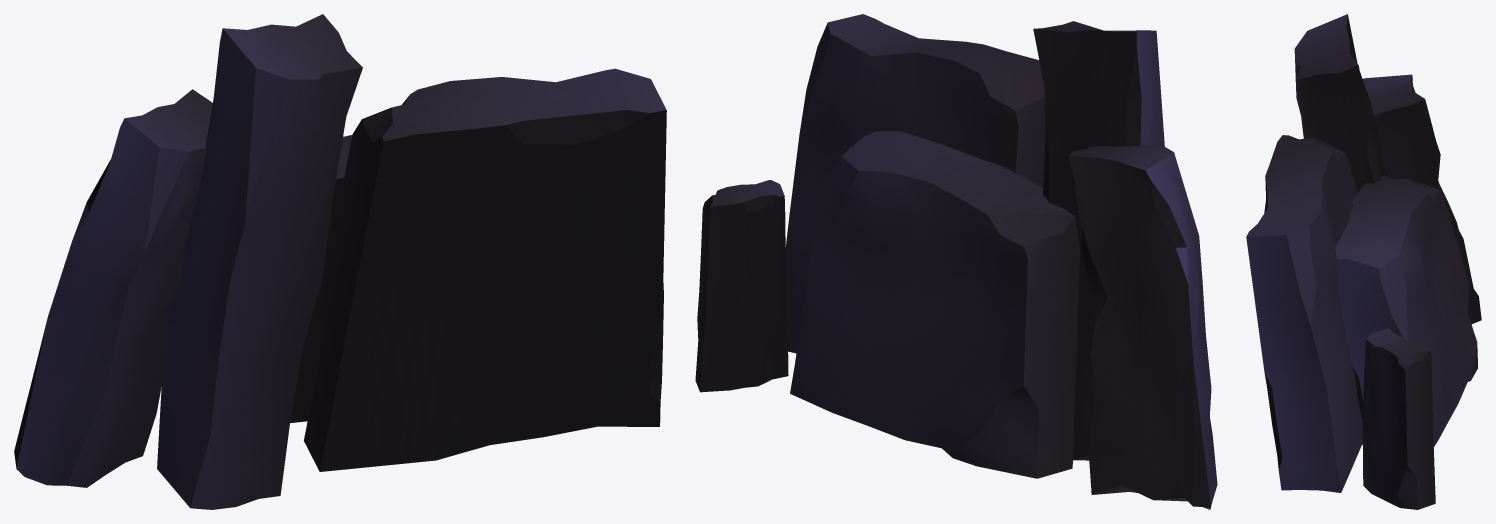
File: rock2.fbx
3 renders of one model, left to right at view 1: azimuth 30°, elevation 25°; view 2: azimuth 150°, elevation 25°; view 3: azimuth 270°, elevation 25°, orthographic. The views are drawn at different scales.
Parts seen in each view (by area): view 1: cave.001; view 2: cave.001; view 3: cave.001.
Boxes of the visible parts, bbox=[...] form: cave.001: bbox=[14, 14, 666, 509]; cave.001: bbox=[695, 14, 1217, 509]; cave.001: bbox=[1246, 14, 1481, 509].
Bounding box in the file's own units: 1608 × 1266 × 757.
